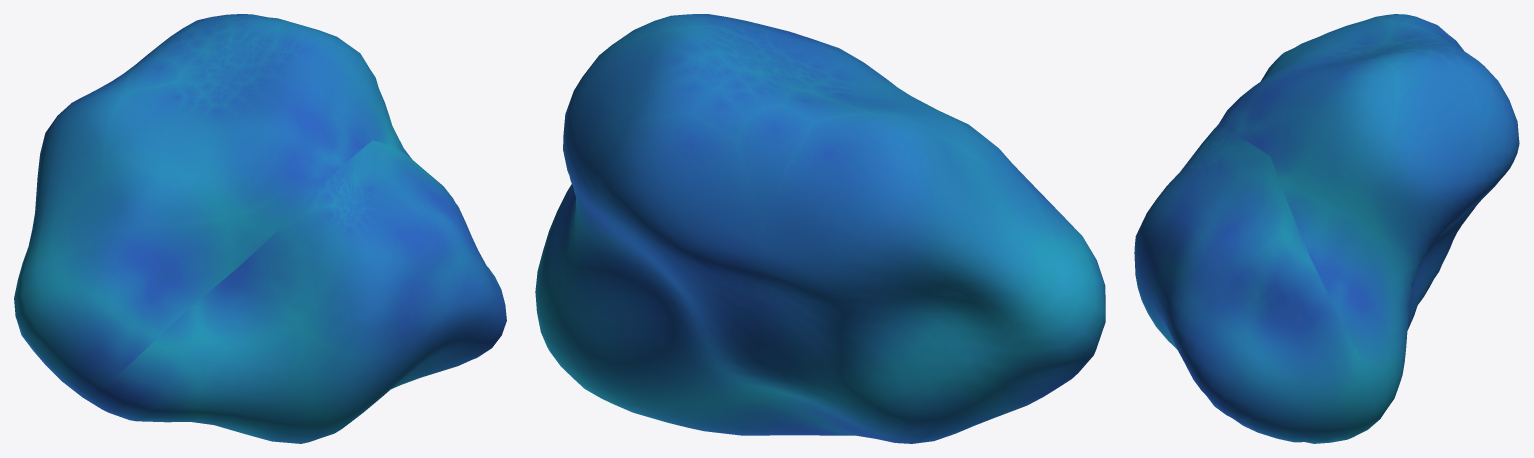
Rendered from Ice_Stone1.fbx.
3 renders of one model, left to right at view 1: azimuth 30°, elevation 25°; view 2: azimuth 150°, elevation 25°; view 3: azimuth 270°, elevation 25°, orthographic. The views are drawn at different scales.
Visible parts, largest first — view 1: rock.003; view 2: rock.003; view 3: rock.003.
Boxes of the visible parts, x1,y1,x2,y2 form: rock.003: [14, 14, 506, 443]; rock.003: [535, 14, 1105, 443]; rock.003: [1134, 14, 1519, 443].
Size of the model in its own units: 200 by 153 by 152.
